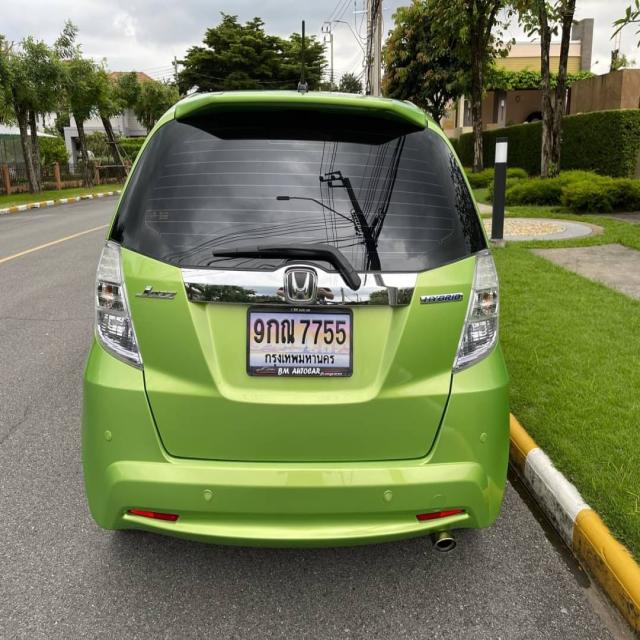license_plate: (246, 302, 354, 377)
